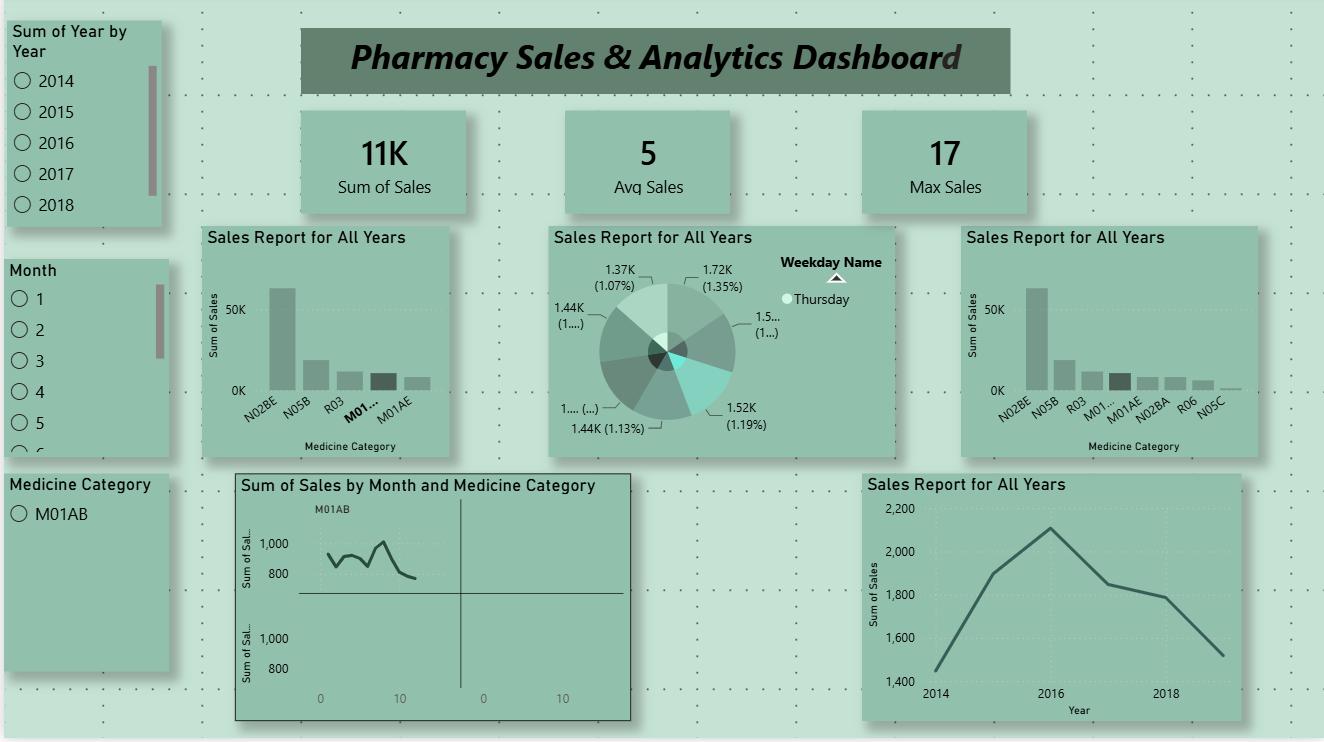

The dashboard page shown, as its layout file describes it:
{"tool":"powerbi","page":{"name":"Page 1","canvas":[1280,720],"ordinal":0},"visuals":[{"type":"cardVisual","fields":{"Data":["Sum(salesdaily.Sales)"]},"box":[288,112,160,100],"z":0},{"type":"lineChart","fields":{"Y":["Sum(salesdaily.Sales)"],"Category":["salesdaily.datum.Variation.Date Hierarchy.Year","salesdaily.datum.Variation.Date Hierarchy.Quarter","salesdaily.datum.Variation.Date Hierarchy.Month"]},"box":[832,464,368,240],"z":1000},{"type":"columnChart","fields":{"Category":["salesdaily.Medicine Category"],"Y":["Sum(salesdaily.Sales)"]},"box":[928,224,288,224],"z":2000},{"type":"pieChart","fields":{"Category":["salesdaily.Weekday Name"],"Y":["Sum(salesdaily.Sales)"]},"box":[528,224,336,224],"z":3000},{"type":"listSlicer","fields":{"Values":["salesdaily.Month"]},"box":[0,256,160,192],"z":4000},{"type":"listSlicer","fields":{"Values":["salesdaily.Year"]},"box":[2.9,24.5,150,200],"z":5000},{"type":"listSlicer","fields":{"Values":["salesdaily.Medicine Category"]},"box":[0,464,160,192],"z":6000},{"type":"textbox","box":[288,32,688,64],"z":7000},{"type":"cardVisual","fields":{"Data":["salesdaily.Avg Sales"]},"box":[544,112,160,100],"z":8000},{"type":"cardVisual","fields":{"Data":["salesdaily.Max Sales"]},"box":[832,112,160,100],"z":9000},{"type":"columnChart","fields":{"Category":["salesdaily.Medicine Category"],"Y":["Sum(salesdaily.Sales)"]},"box":[192,224,240,224],"z":10000},{"type":"lineChart","fields":{"Y":["Sum(salesdaily.Sales)"],"Category":["salesdaily.Month"],"Rows":["salesdaily.Medicine Category"]},"box":[224,464,384,240],"z":11000}]}

Visuals, with their boxes in screenshot pixels (x1, y1, x2, y2), scaled from the page's 1280x720 canvas onto the 1324x742 screenshot:
cardVisual - Sum(salesdaily.Sales): [298,115,463,218]
lineChart - Sum(salesdaily.Sales) x salesdaily.datum.Variation.Date Hierarchy.Year: [861,478,1241,726]
columnChart - salesdaily.Medicine Category x Sum(salesdaily.Sales): [960,231,1258,462]
pieChart - salesdaily.Weekday Name x Sum(salesdaily.Sales): [546,231,894,462]
listSlicer - salesdaily.Month: [0,264,166,462]
listSlicer - salesdaily.Year: [3,25,158,231]
listSlicer - salesdaily.Medicine Category: [0,478,166,676]
textbox: [298,33,1010,99]
cardVisual - salesdaily.Avg Sales: [563,115,728,218]
cardVisual - salesdaily.Max Sales: [861,115,1026,218]
columnChart - salesdaily.Medicine Category x Sum(salesdaily.Sales): [199,231,447,462]
lineChart - Sum(salesdaily.Sales) x salesdaily.Month: [232,478,629,726]
